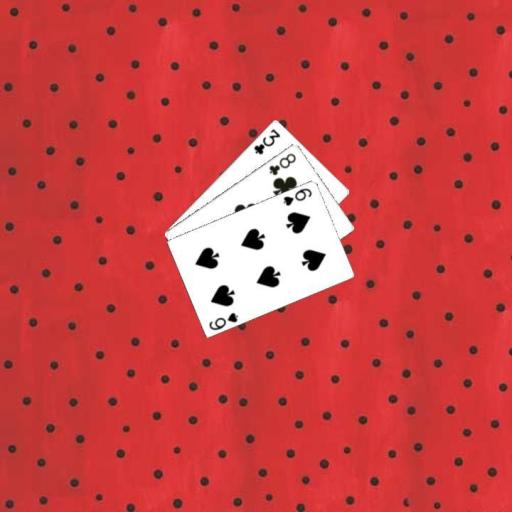3C: (250, 125, 282, 156)
6S: (280, 185, 314, 207), (206, 310, 240, 332)
8C: (266, 150, 298, 176)
